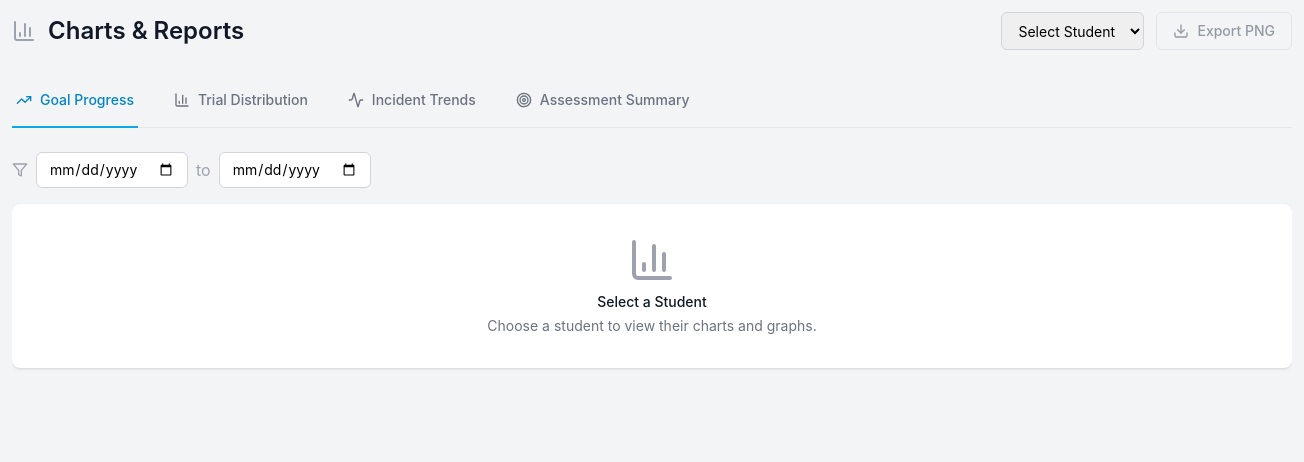
Test case: ChartsPage › renders goal progress bars when student selected
The image size is (1304, 462).
Select "Alice Johnson" in the dropdown. click: (1073, 31)
box: top-left (1002, 12), bottom-right (1144, 50)
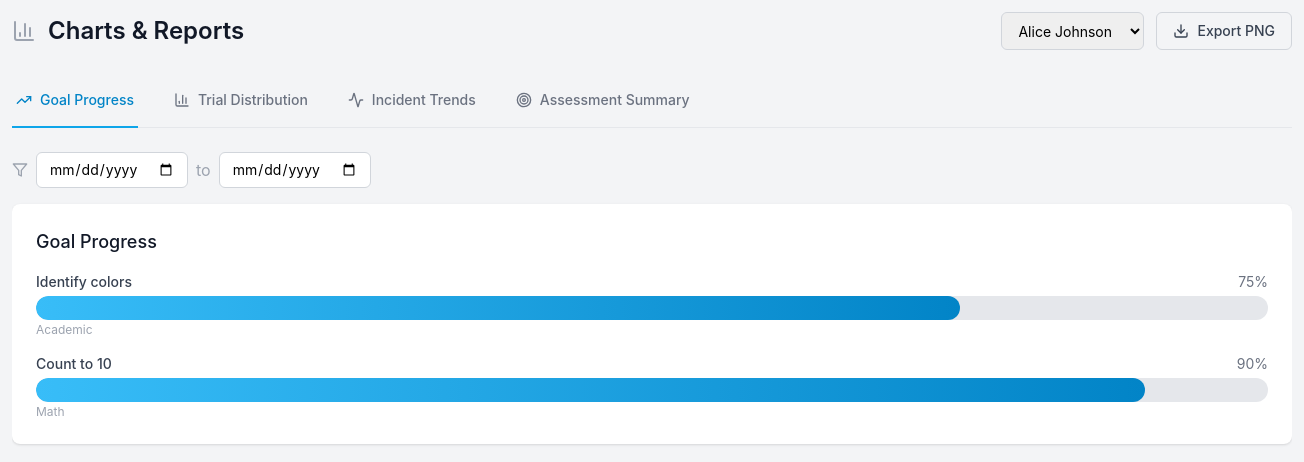
Expected: the text "Identify colors" is shown, top-left (36, 273), bottom-right (132, 290)
Expected: the text "Count to 10" is shown, top-left (36, 355), bottom-right (112, 372)
Expected: the text "75%" is shown, top-left (1238, 272), bottom-right (1268, 292)
